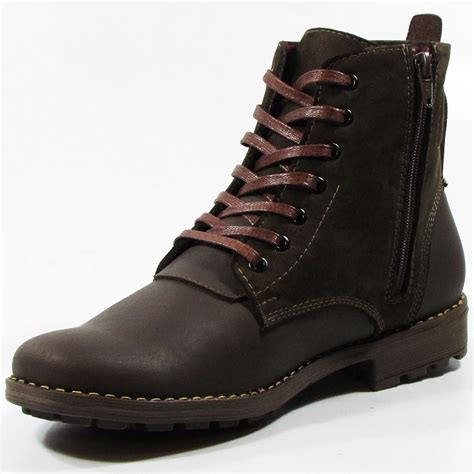cuero: (11, 14, 467, 401)
